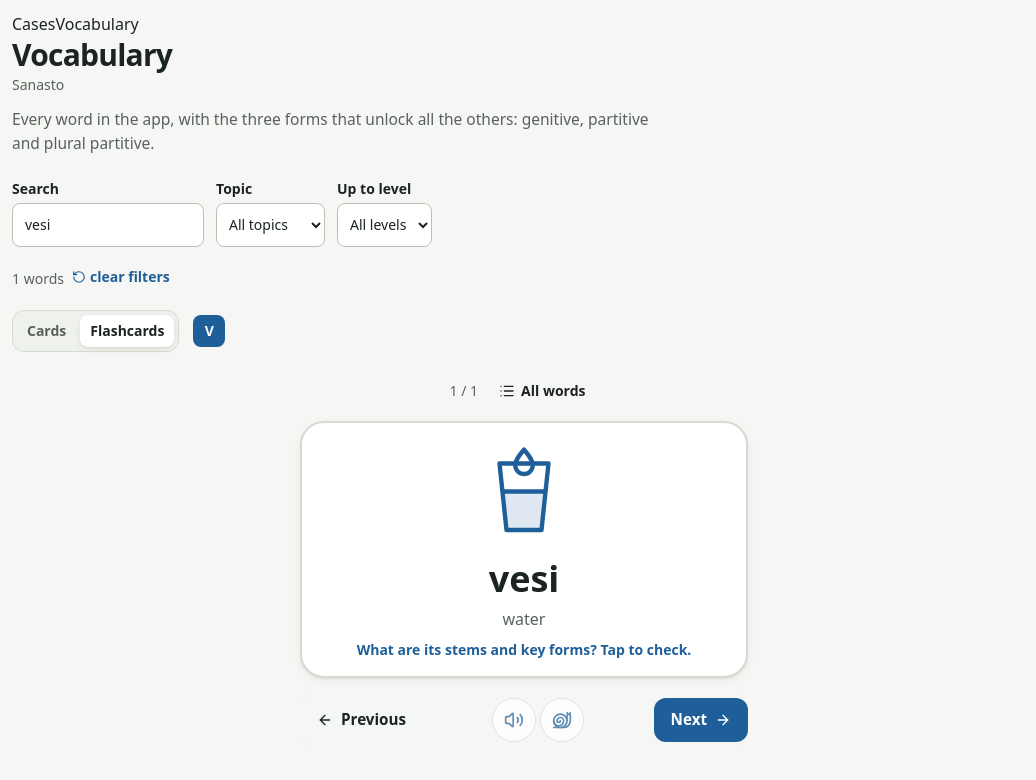
Test: Vocabulary flashcards: the back of the card › vesi shows its consonant stem and what it is for
Click the button "vesi".
click(524, 579)  # box [489,559,559,599]
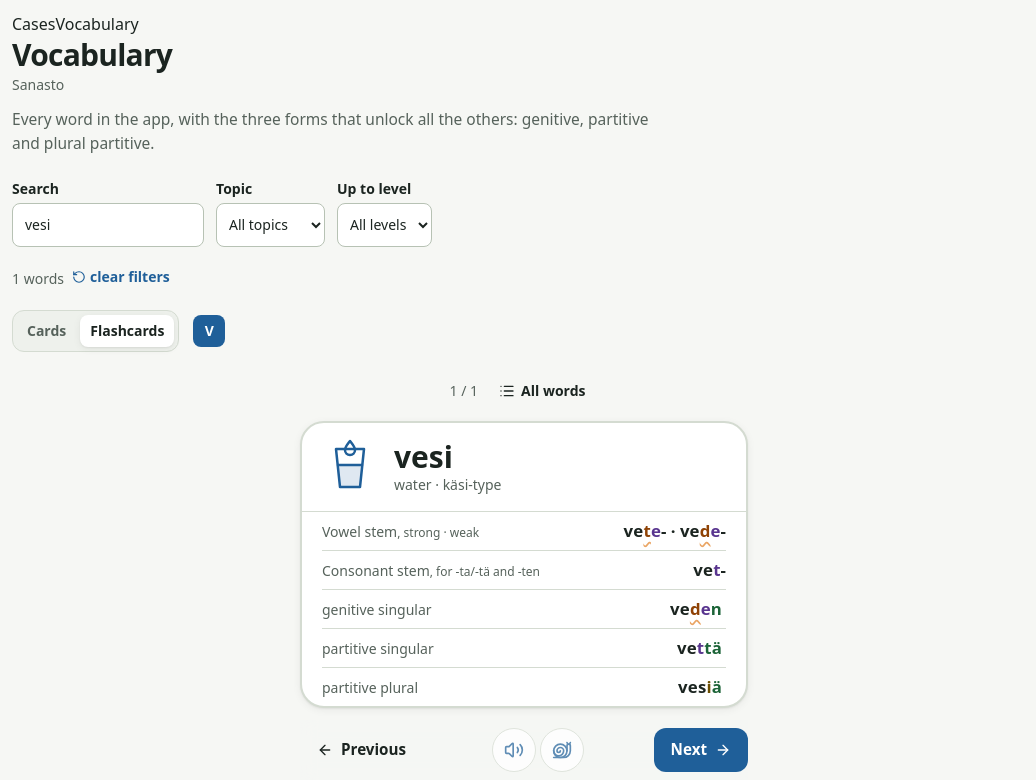
Now the text "Consonant stem" shows "for -ta/-tä and -ten", box [436,563,540,580]
Now the element showing "vet-" is shown, box [693,557,726,583]
